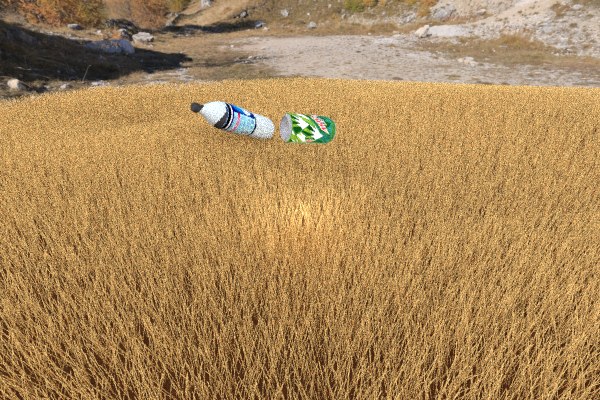Plastic Bottle: (176, 158, 236, 240), (190, 101, 275, 140), (279, 112, 336, 144)
